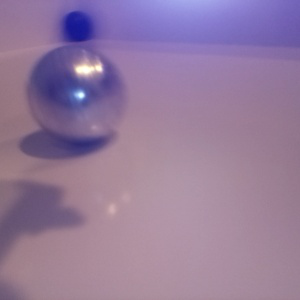alive_ball: (27, 44, 127, 141)
dead_ball: (62, 12, 92, 42)
